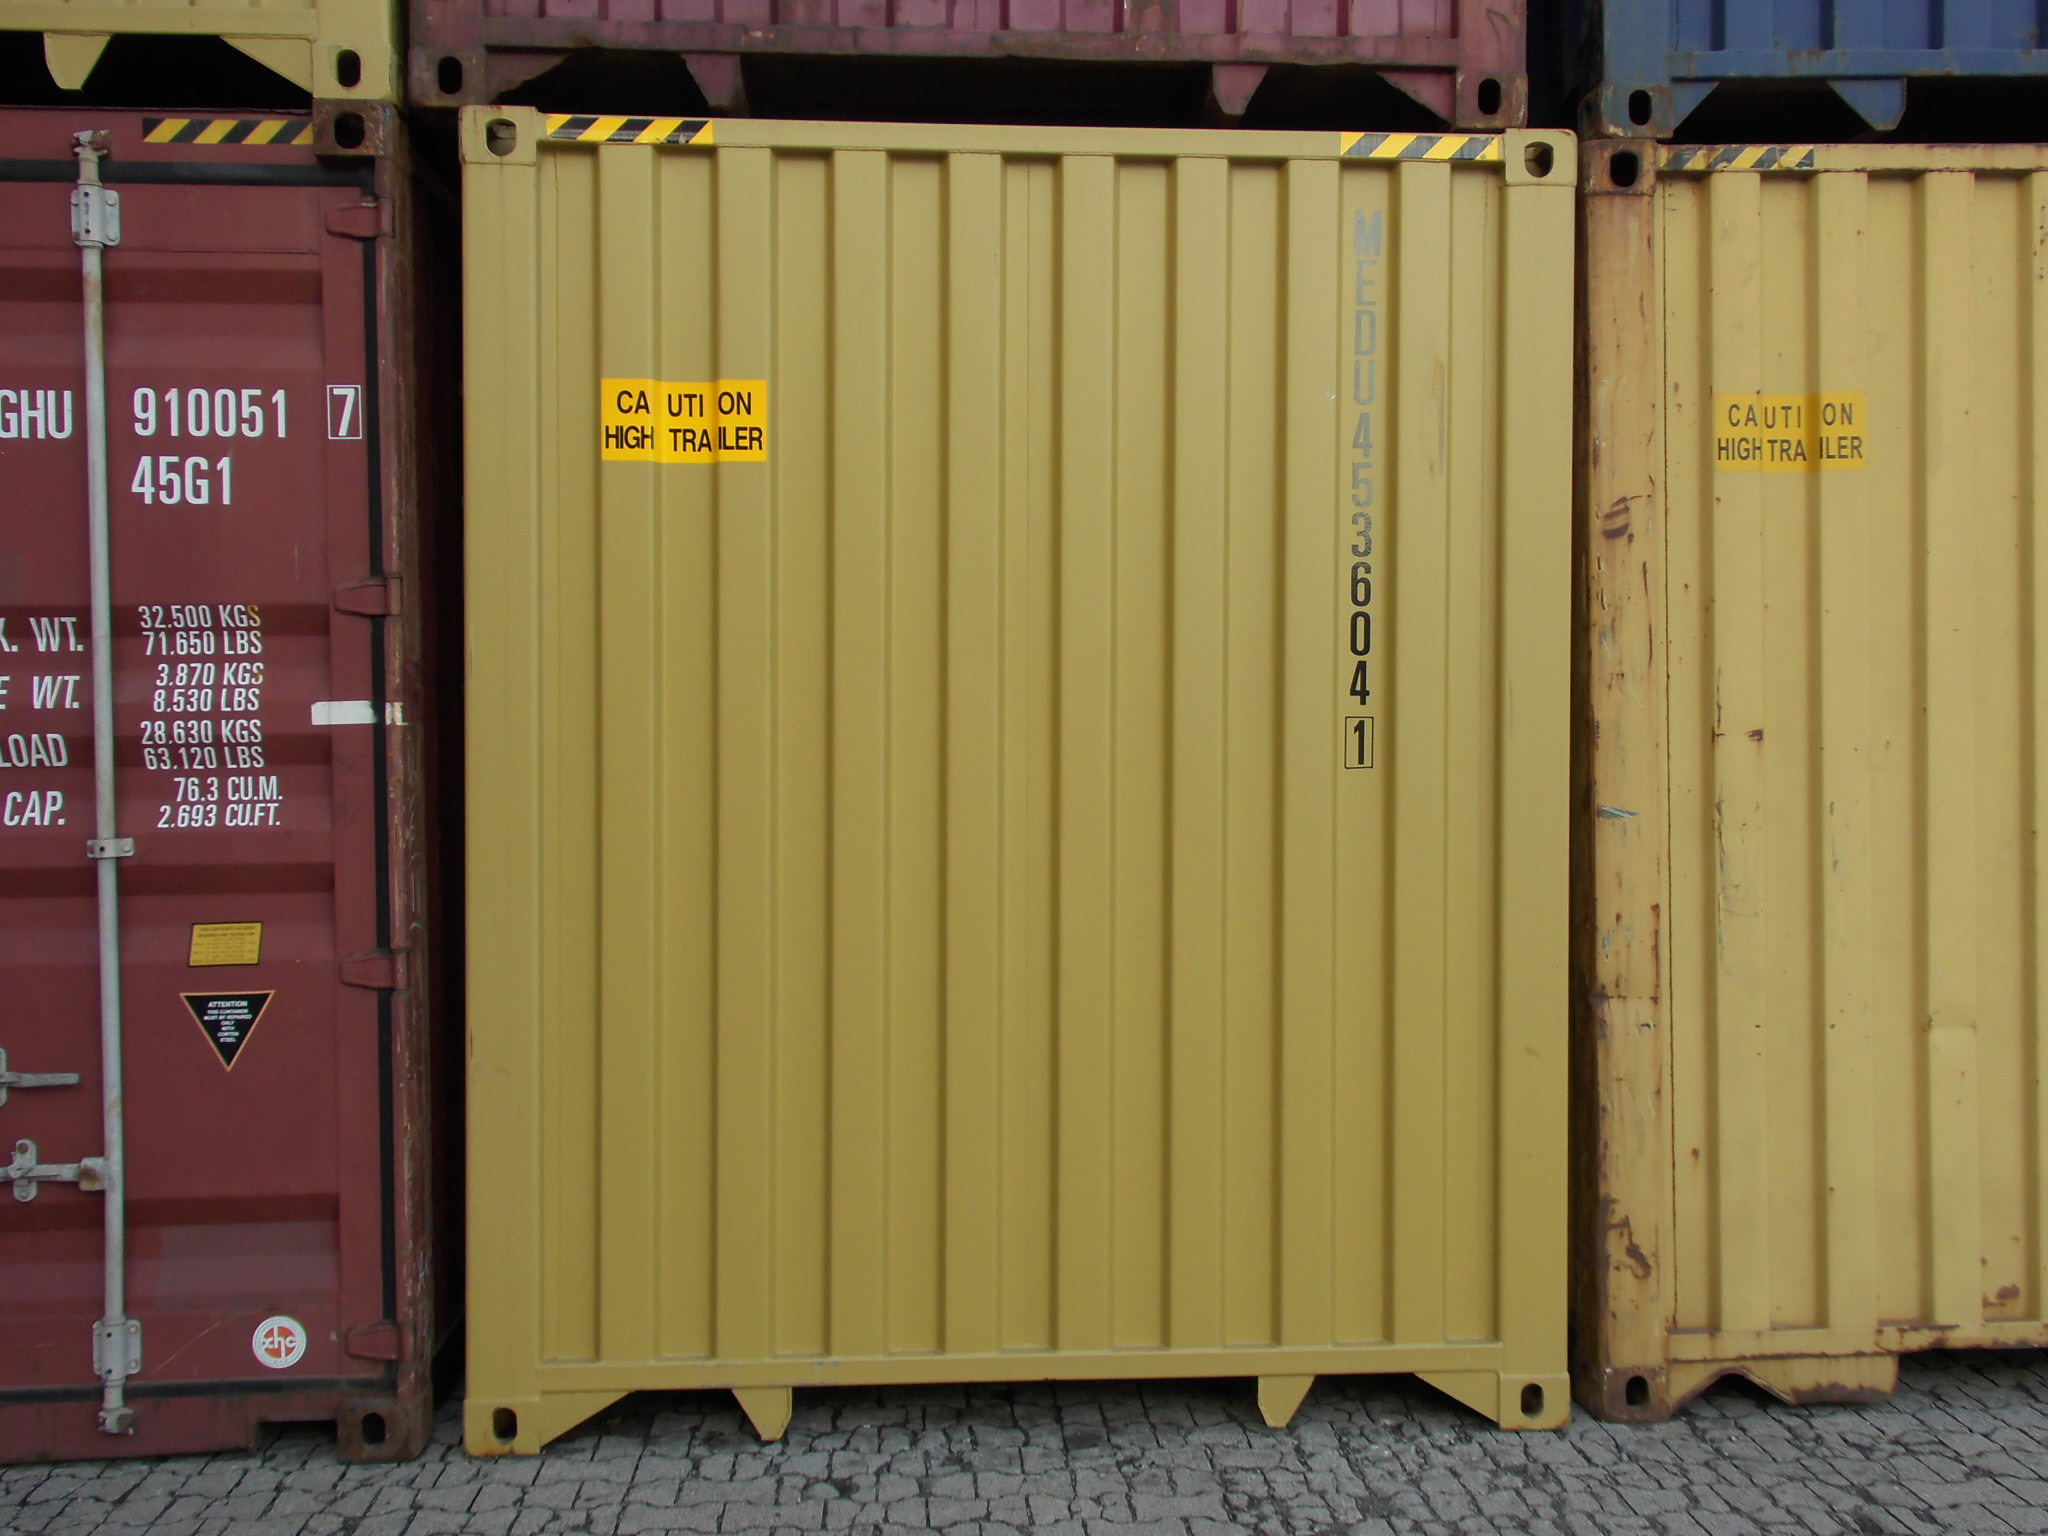container_no_door: (447, 97, 1584, 1438)
